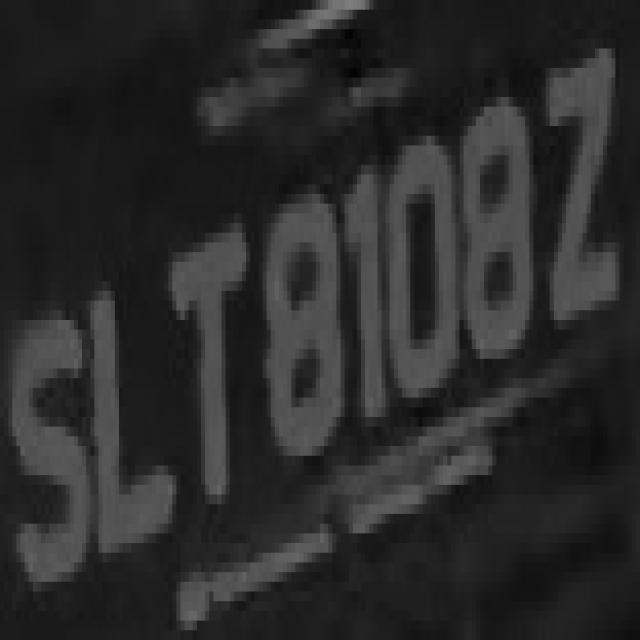0: (378, 126, 463, 436)
1: (336, 136, 390, 446)
8: (451, 87, 542, 388), (254, 194, 349, 475)
L: (78, 252, 172, 592)
S: (4, 300, 94, 620)
T: (152, 233, 246, 572)
Z: (529, 29, 628, 349)
